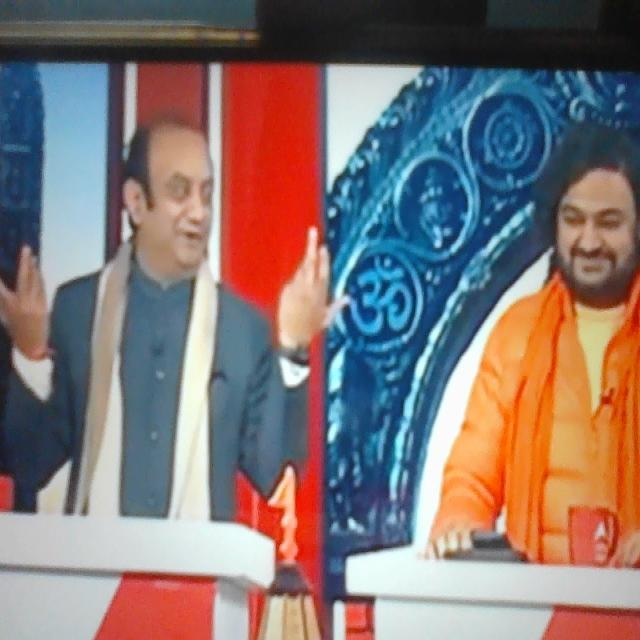fake: (116, 64, 232, 283)
